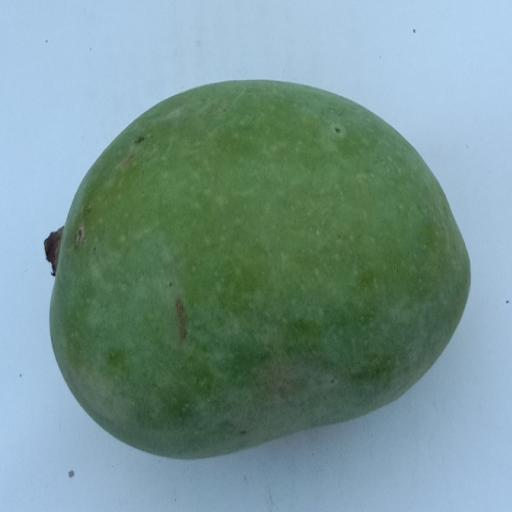mango-unripe: (22, 43, 496, 477)
